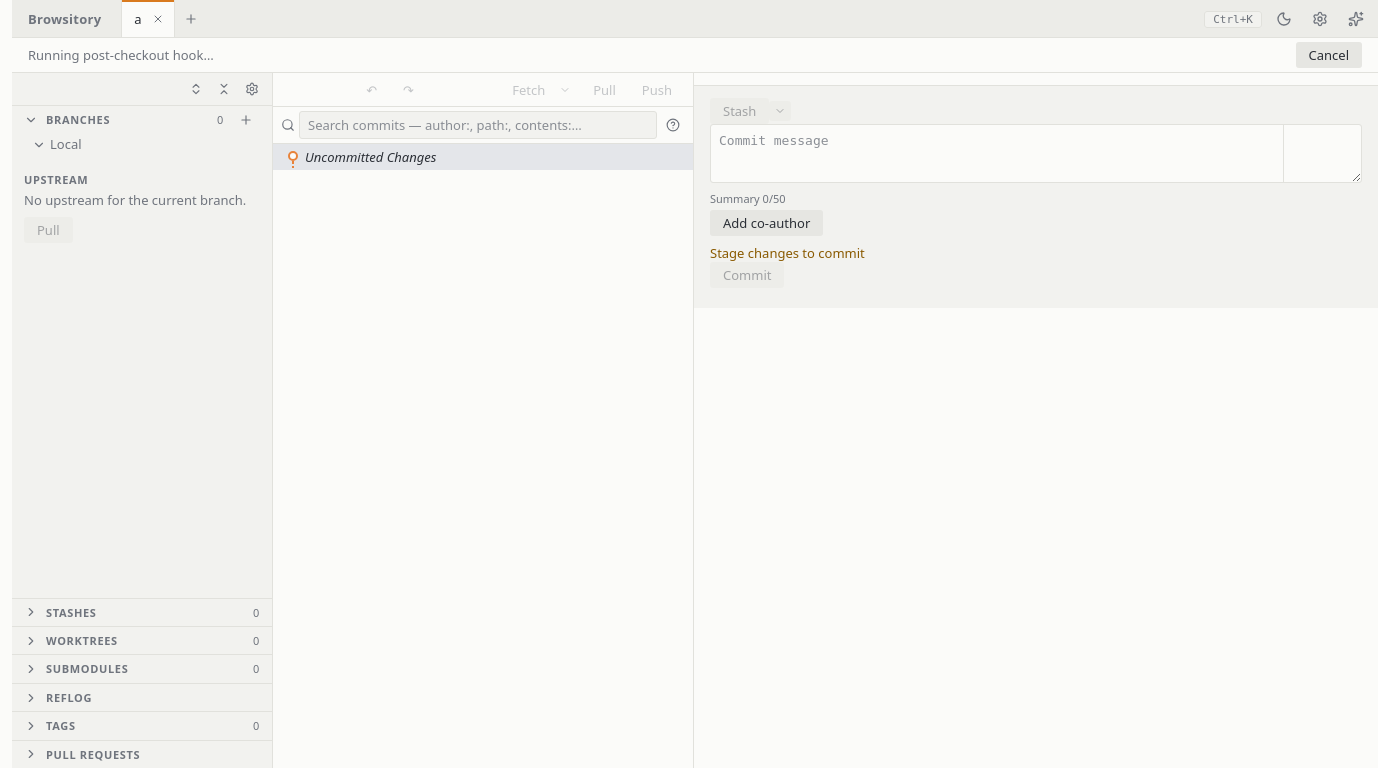
Test case: App › shows a checkout's hook in the Hook status strip, not the commit box, and cancels it (#185)
The image size is (1378, 768).
Expected: the tab "a" is shown, [134,10,142,28]
Expected: the message named "Hook status" shows "Running post-checkout hook…", [28,46,214,64]
Click the button with aria-label "Cancel post-checkout hook": (1329, 55) [1296,42,1362,68]
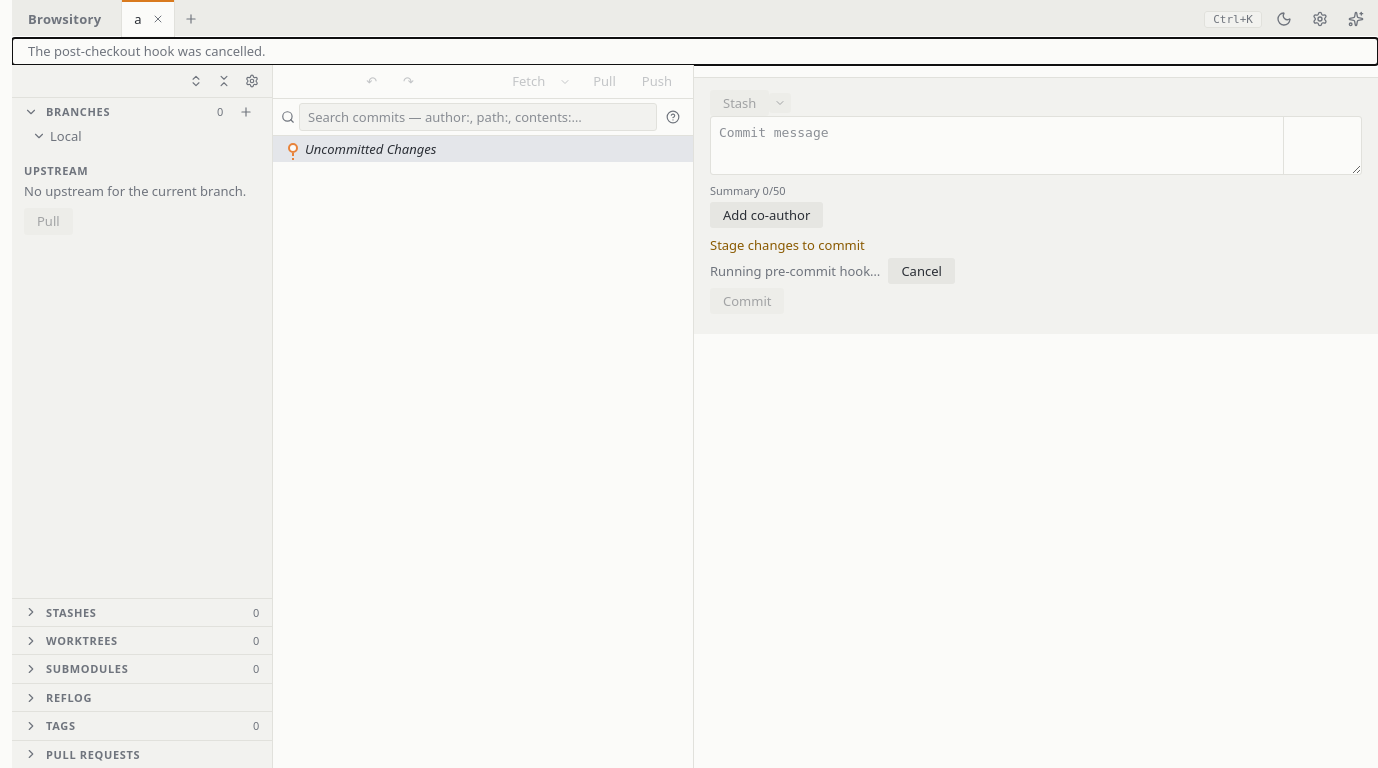
Expected: the message named "Hook status" does not show "pre-commit", [12,38,1377,65]
Expected: the message named "Hook status" reads "The post-checkout hook was cancelled.", [28,42,266,60]
